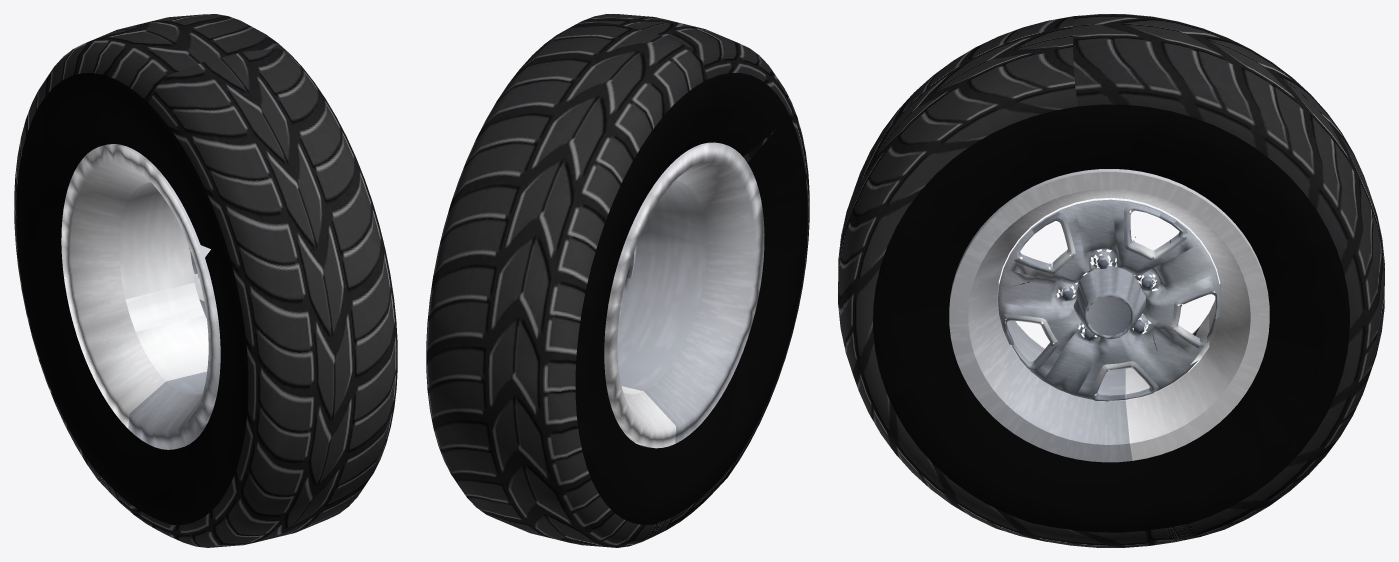
Rendered from LlantaLucasDer.fbx.
The picture shows the model from 3 angles, left to right: view 1: azimuth 30°, elevation 25°; view 2: azimuth 150°, elevation 25°; view 3: azimuth 270°, elevation 25°; orthographic projection. The views are drawn at different scales.
Parts seen in each view (by area): view 1: LlantaDelanteraDerecha; view 2: LlantaDelanteraDerecha; view 3: LlantaDelanteraDerecha.
Part boxes in pixels (bbox=[...]): LlantaDelanteraDerecha: bbox=[14, 14, 397, 547]; LlantaDelanteraDerecha: bbox=[426, 14, 809, 547]; LlantaDelanteraDerecha: bbox=[838, 14, 1384, 547].
Size of the model in its own units: 17.59 by 52.45 by 53.16.
